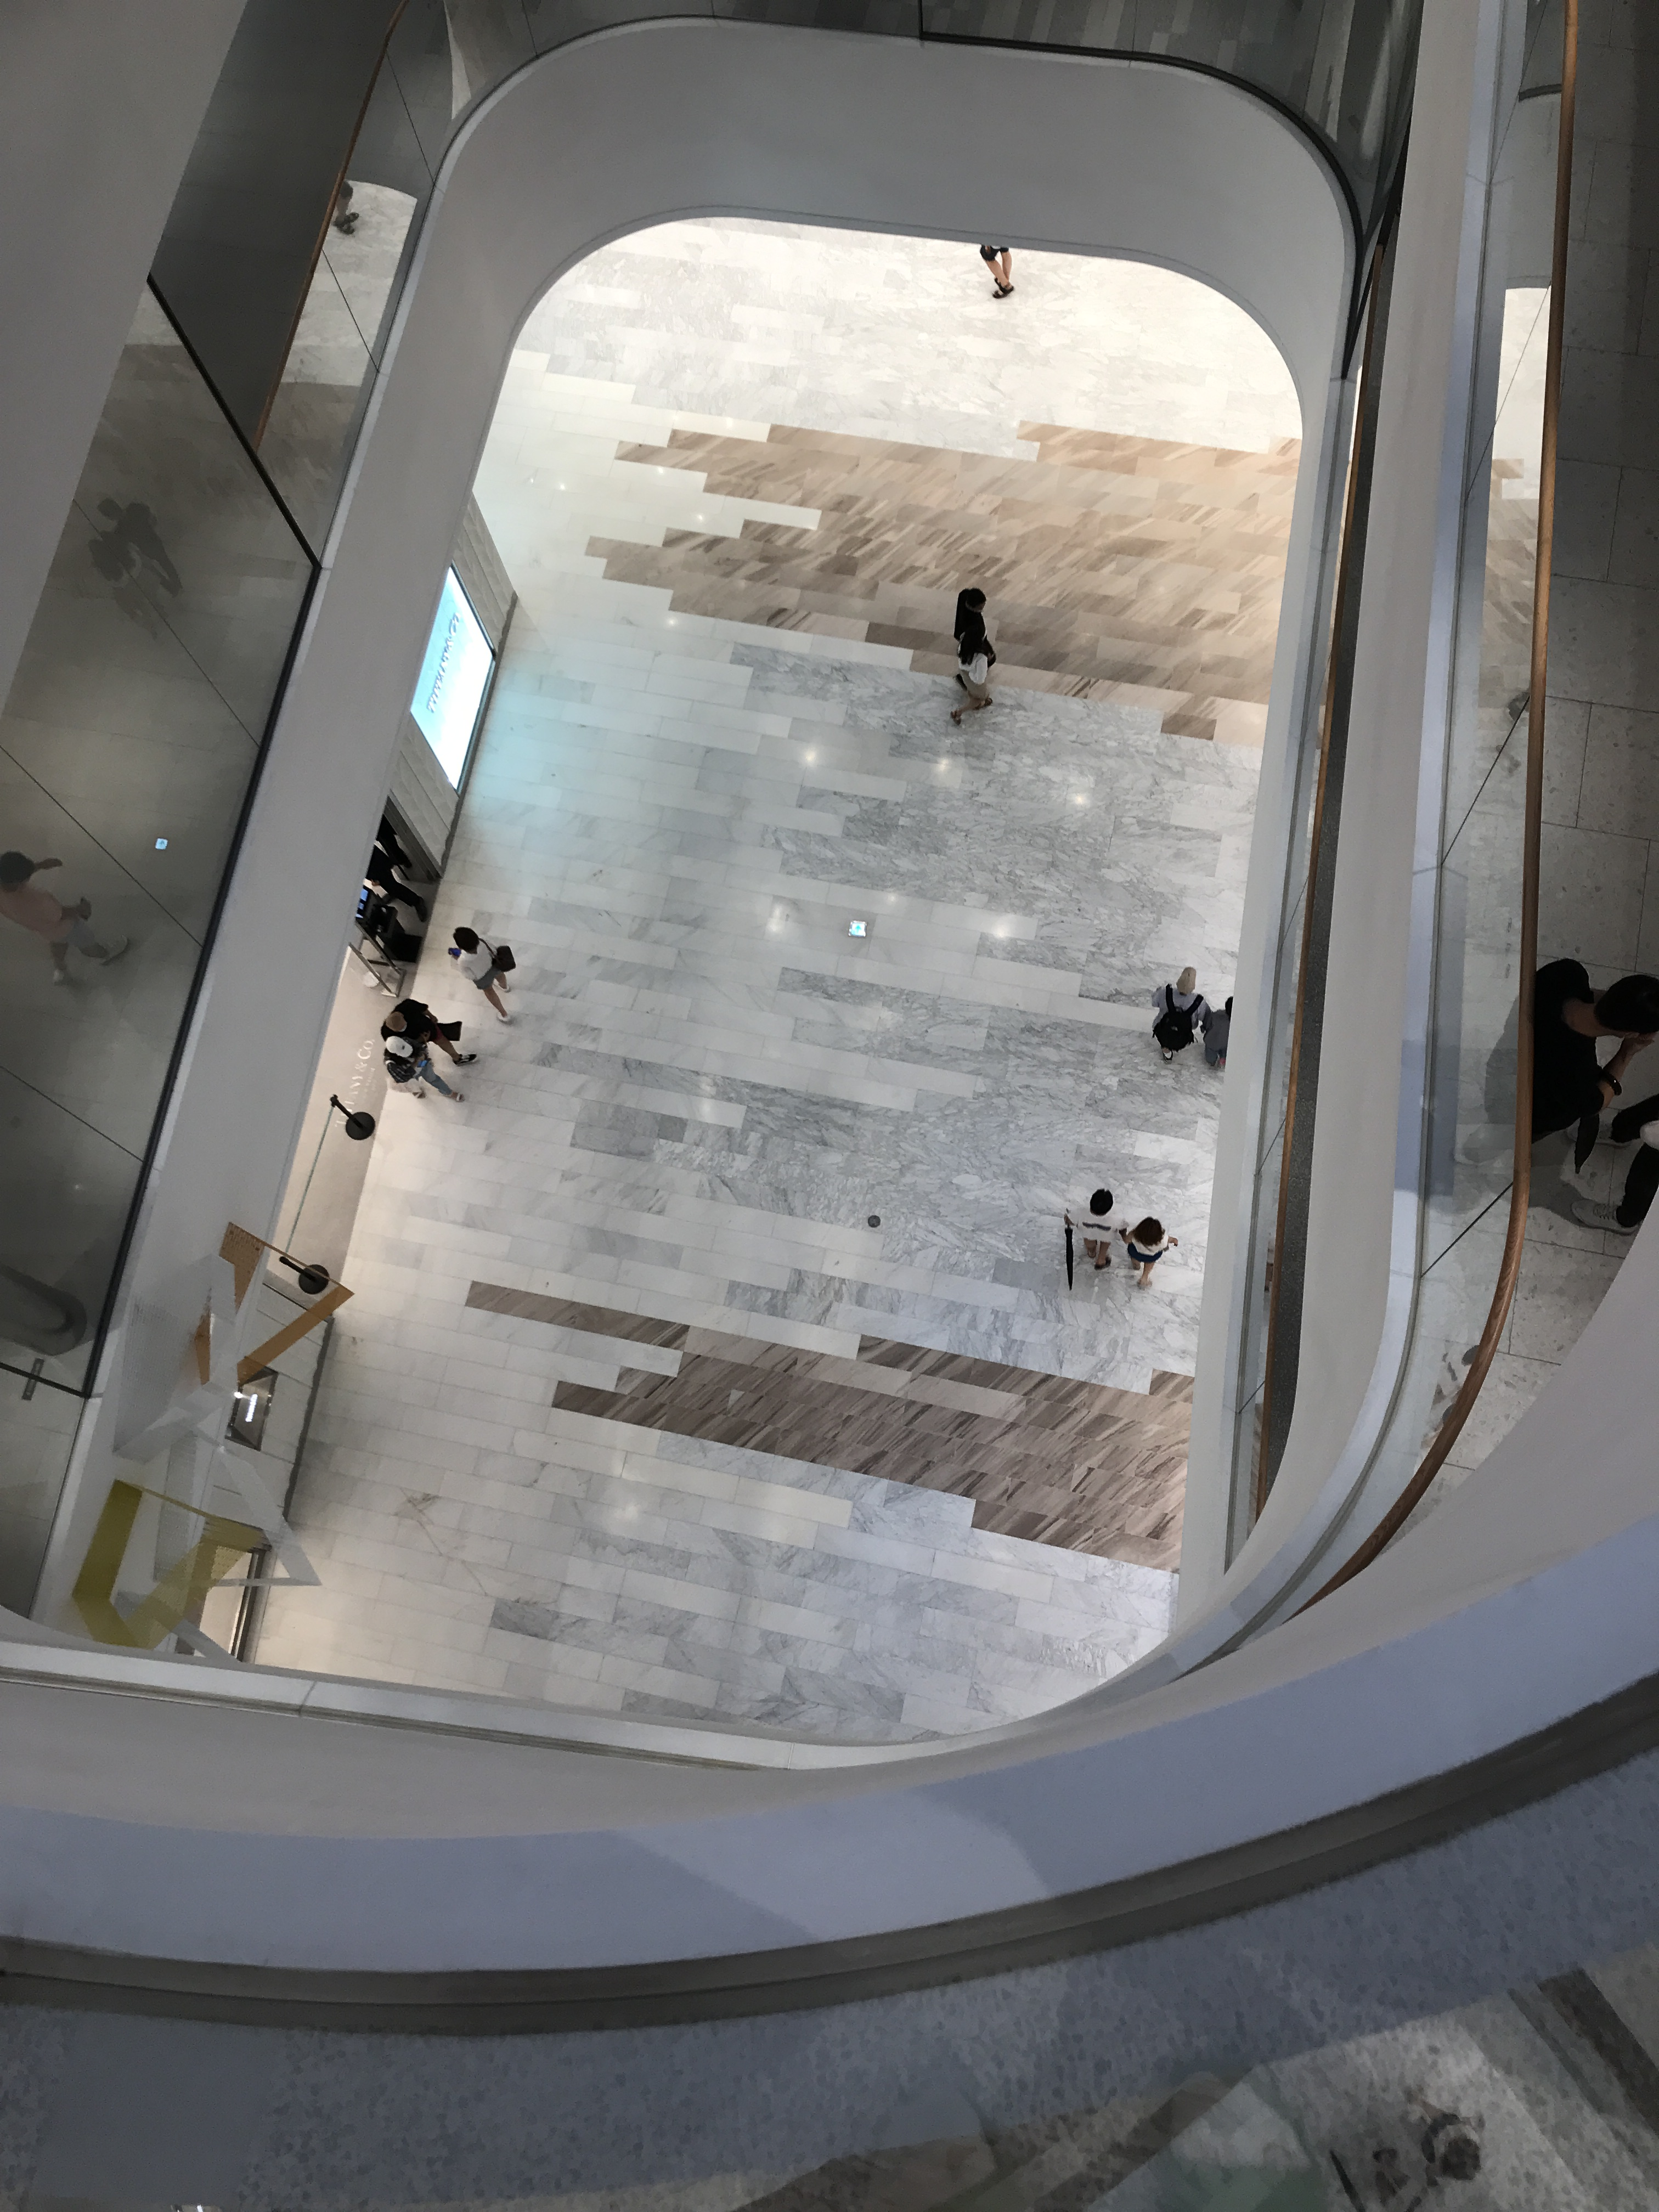person: (1455, 960, 1659, 1207), (1, 850, 133, 983), (384, 997, 482, 1073), (450, 923, 512, 1022), (1063, 1188, 1131, 1273), (1148, 966, 1204, 1065), (950, 619, 996, 731), (384, 1041, 465, 1103), (1122, 1214, 1178, 1291), (1203, 997, 1239, 1070), (957, 592, 992, 641)
